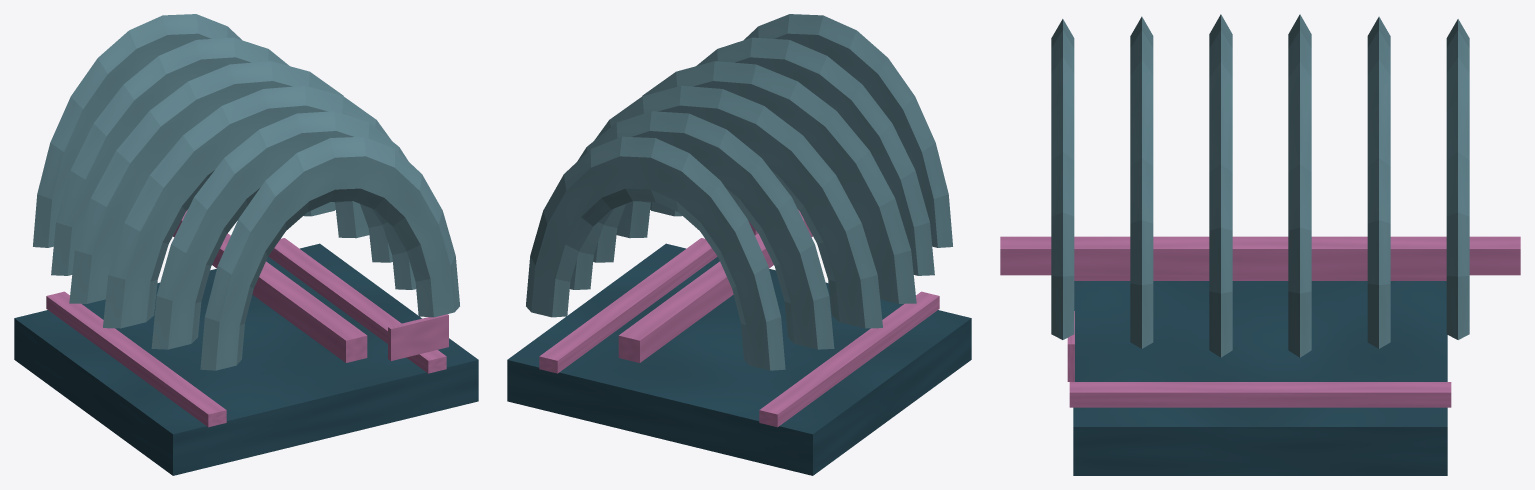
The model's file is atlas100-s061-a01.lod1.glb.
The picture shows the model from 3 angles, left to right: view 1: azimuth 30°, elevation 25°; view 2: azimuth 150°, elevation 25°; view 3: azimuth 270°, elevation 25°; orthographic projection. The views are drawn at different scales.
Parts seen in each view (by area): view 1: atlas100-s061-a01:part-000, atlas100-s061-a01:part-008, atlas100-s061-a01:part-006, atlas100-s061-a01:part-007, atlas100-s061-a01:part-005, atlas100-s061-a01:part-004, atlas100-s061-a01:part-003, atlas100-s061-a01:part-001, atlas100-s061-a01:part-009, atlas100-s061-a01:part-002, atlas100-s061-a01:part-010; view 2: atlas100-s061-a01:part-000, atlas100-s061-a01:part-003, atlas100-s061-a01:part-005, atlas100-s061-a01:part-004, atlas100-s061-a01:part-006, atlas100-s061-a01:part-007, atlas100-s061-a01:part-008, atlas100-s061-a01:part-001, atlas100-s061-a01:part-002, atlas100-s061-a01:part-009; view 3: atlas100-s061-a01:part-000, atlas100-s061-a01:part-009, atlas100-s061-a01:part-002, atlas100-s061-a01:part-005, atlas100-s061-a01:part-006, atlas100-s061-a01:part-004, atlas100-s061-a01:part-007, atlas100-s061-a01:part-003, atlas100-s061-a01:part-008, atlas100-s061-a01:part-001.
Part boxes in pixels (bbox=[...]): atlas100-s061-a01:part-000: bbox=[14, 243, 478, 475]; atlas100-s061-a01:part-008: bbox=[200, 136, 459, 370]; atlas100-s061-a01:part-006: bbox=[103, 85, 392, 328]; atlas100-s061-a01:part-007: bbox=[151, 111, 416, 349]; atlas100-s061-a01:part-005: bbox=[69, 61, 369, 303]; atlas100-s061-a01:part-004: bbox=[51, 37, 335, 275]; atlas100-s061-a01:part-003: bbox=[33, 14, 241, 247]; atlas100-s061-a01:part-001: bbox=[46, 291, 226, 427]; atlas100-s061-a01:part-009: bbox=[173, 210, 367, 362]; atlas100-s061-a01:part-002: bbox=[268, 238, 446, 373]; atlas100-s061-a01:part-010: bbox=[388, 314, 448, 360]; atlas100-s061-a01:part-000: bbox=[507, 243, 971, 475]; atlas100-s061-a01:part-003: bbox=[526, 136, 785, 370]; atlas100-s061-a01:part-005: bbox=[593, 85, 882, 328]; atlas100-s061-a01:part-004: bbox=[569, 111, 834, 349]; atlas100-s061-a01:part-006: bbox=[616, 61, 916, 303]; atlas100-s061-a01:part-007: bbox=[650, 37, 934, 275]; atlas100-s061-a01:part-008: bbox=[744, 14, 952, 247]; atlas100-s061-a01:part-001: bbox=[759, 291, 939, 427]; atlas100-s061-a01:part-002: bbox=[539, 238, 717, 373]; atlas100-s061-a01:part-009: bbox=[618, 210, 812, 362]; atlas100-s061-a01:part-000: bbox=[1073, 281, 1447, 475]; atlas100-s061-a01:part-009: bbox=[1000, 236, 1520, 275]; atlas100-s061-a01:part-002: bbox=[1069, 382, 1451, 407]; atlas100-s061-a01:part-005: bbox=[1288, 14, 1311, 357]; atlas100-s061-a01:part-006: bbox=[1209, 14, 1232, 357]; atlas100-s061-a01:part-004: bbox=[1367, 16, 1390, 348]; atlas100-s061-a01:part-007: bbox=[1130, 16, 1153, 348]; atlas100-s061-a01:part-003: bbox=[1446, 19, 1469, 339]; atlas100-s061-a01:part-008: bbox=[1051, 19, 1074, 339]; atlas100-s061-a01:part-001: bbox=[1074, 275, 1446, 280].
Size of the model in its own units: 2.1 by 1.9 by 2.5.
3 materials, 3 textured.
